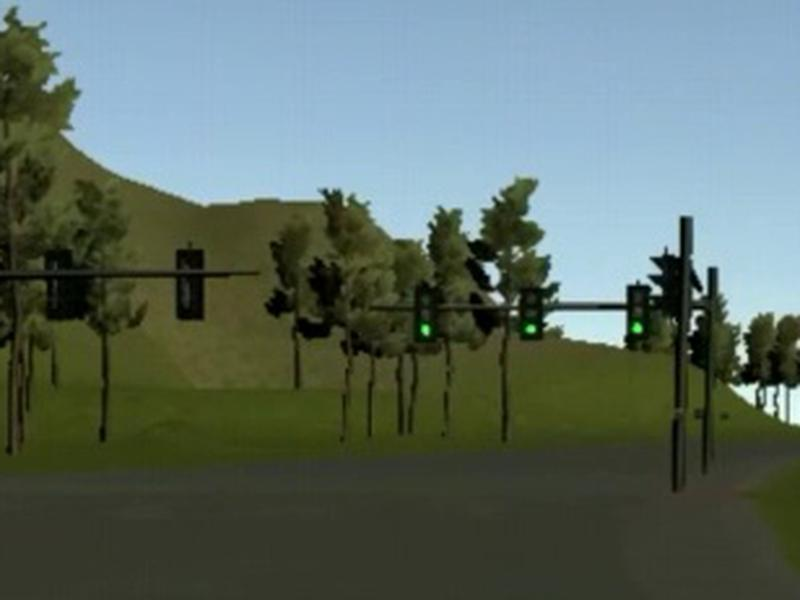Green: (413, 285, 439, 342), (626, 284, 650, 342), (520, 287, 542, 340)
